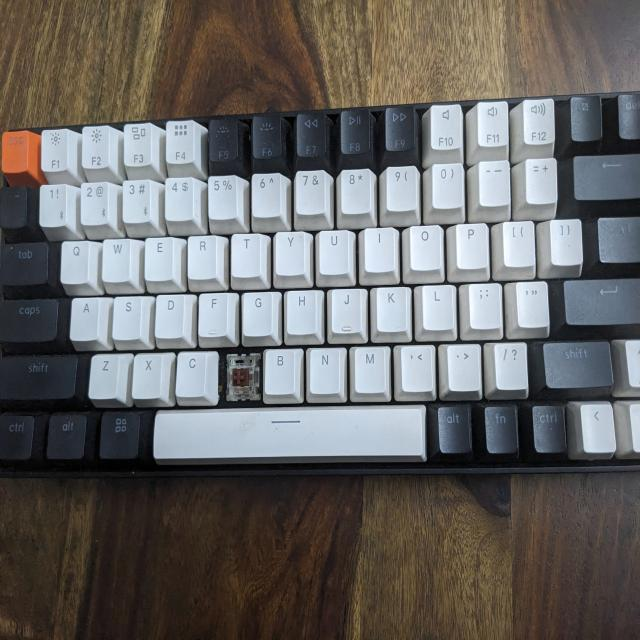C: (222, 352, 258, 400)
